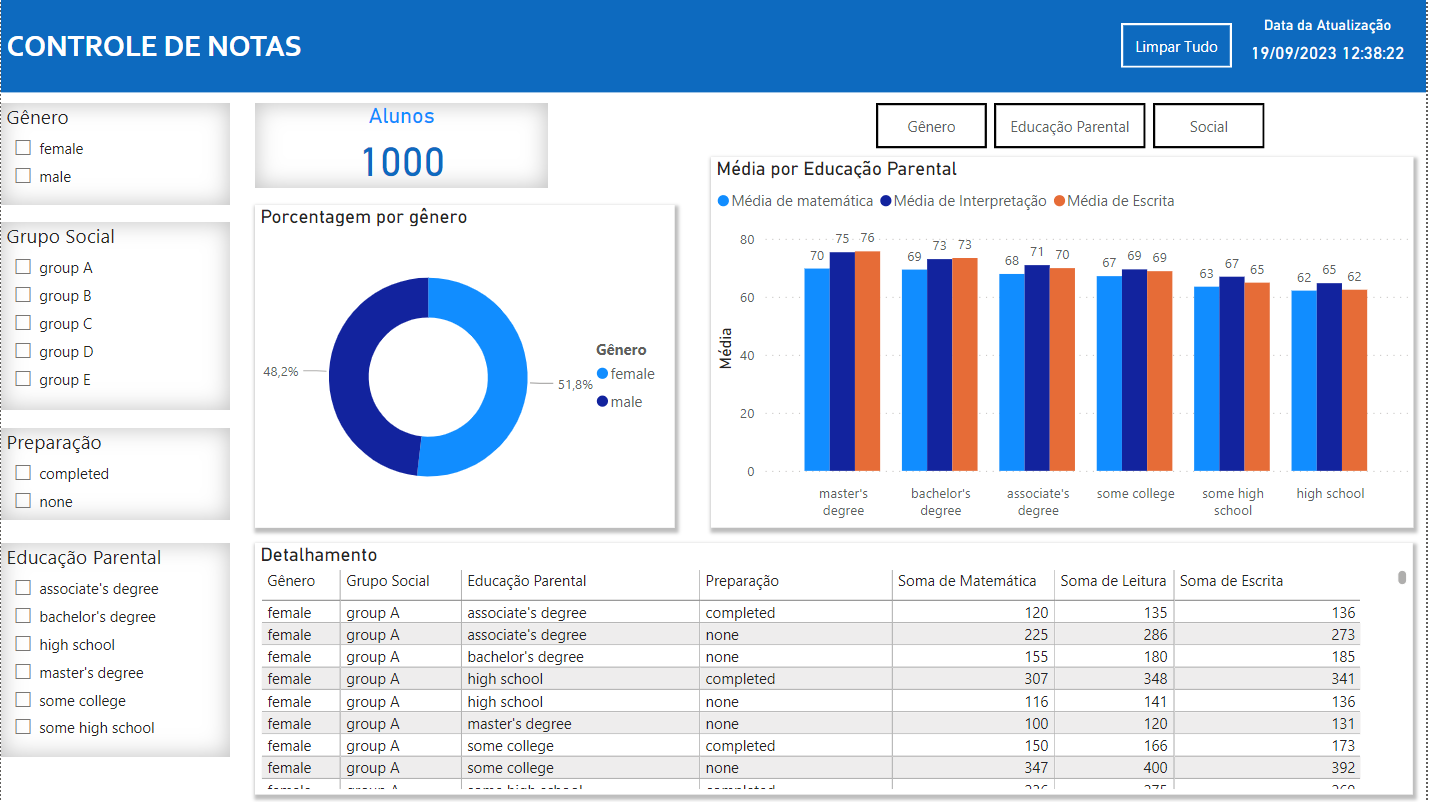

Layout of this report page (visuals, bound fields, positions):
{"tool":"powerbi","page":{"name":"Página 1","canvas":[1280,720],"ordinal":0},"visuals":[{"type":"textbox","box":[0,0,1280,82.6],"z":0},{"type":"textbox","box":[0,20.7,307.2,56.6],"z":1000},{"type":"actionButton","box":[1006,20.7,99.7,40.4],"z":2000},{"type":"card","title":"Data da Atualização","fields":{"Values":["Min(dataatualizacao.Column1)"]},"box":[1114.7,15.3,153.6,51.2],"z":3000},{"type":"slicer","title":"Gênero","fields":{"Values":["students.gender"]},"box":[0,92.5,205.6,91.7],"z":4000},{"type":"slicer","title":"Grupo Social","fields":{"Values":["students.ethnicity"]},"box":[0,199.4,205.7,168.9],"z":5000},{"type":"slicer","title":"Preparação","fields":{"Values":["students.testpreparation"]},"box":[0,384.4,205.7,82.6],"z":6000},{"type":"slicer","title":"Educação Parental","fields":{"Values":["students.parentaleducation"]},"box":[0,487.7,205.7,192.2],"z":7000},{"type":"donutChart","title":"Porcentagem por gênero","fields":{"Category":["students.gender"],"Y":["Medidas.Contagem alunos"]},"box":[228.2,184.1,377.3,290.1],"z":8000},{"type":"clusteredColumnChart","title":"Média por Educação Parental","fields":{"Y":["Medidas.Média matemática","Medidas.Média reading","Medidas.Média writing"],"Category":["students.parentaleducation"]},"box":[637.8,141,631.5,333.2],"z":11000},{"type":"actionButton","box":[785.9,92.5,99.6,40.6],"z":12000},{"type":"actionButton","box":[891.9,92.5,136.3,40.6],"z":13000},{"type":"actionButton","box":[1034.5,92.5,100.4,40.6],"z":14000},{"type":"card","title":"Alunos","fields":{"Values":["Medidas.Contagem alunos"]},"box":[228.2,92.5,263.2,76.4],"z":15000},{"type":"tableEx","title":"Detalhamento","fields":{"Values":["students.gender","students.ethnicity","students.parentaleducation","students.testpreparation","Sum(students.mathscore)","Sum(students.readingscore)","Sum(students.writingscore)"]},"box":[228.2,487.7,1040.2,226.4],"z":15001}]}

Visuals, with their boxes in screenshot pixels (x1, y1, x2, y2), scaled from the page's 1280x720 canvas onto the 1429x802 screenshot:
textbox: detection(0, 0, 1428, 92)
textbox: detection(0, 23, 343, 86)
actionButton: detection(1123, 23, 1234, 68)
"Data da Atualização" card: detection(1244, 17, 1416, 74)
"Gênero" slicer: detection(0, 103, 230, 205)
"Grupo Social" slicer: detection(0, 222, 230, 410)
"Preparação" slicer: detection(0, 428, 230, 520)
"Educação Parental" slicer: detection(0, 543, 230, 757)
"Porcentagem por gênero" donutChart: detection(255, 205, 676, 528)
"Média por Educação Parental" clusteredColumnChart: detection(712, 157, 1417, 528)
actionButton: detection(877, 103, 989, 148)
actionButton: detection(996, 103, 1148, 148)
actionButton: detection(1155, 103, 1267, 148)
"Alunos" card: detection(255, 103, 549, 188)
"Detalhamento" tableEx: detection(255, 543, 1416, 795)
